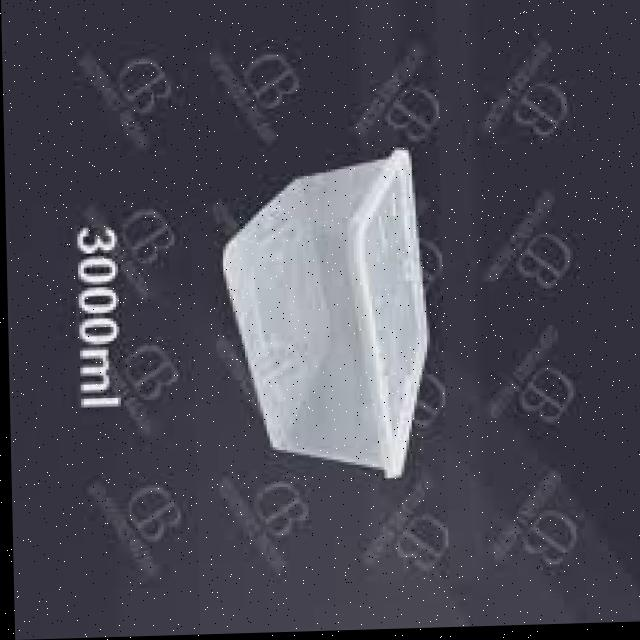disposable: (216, 143, 448, 514)
